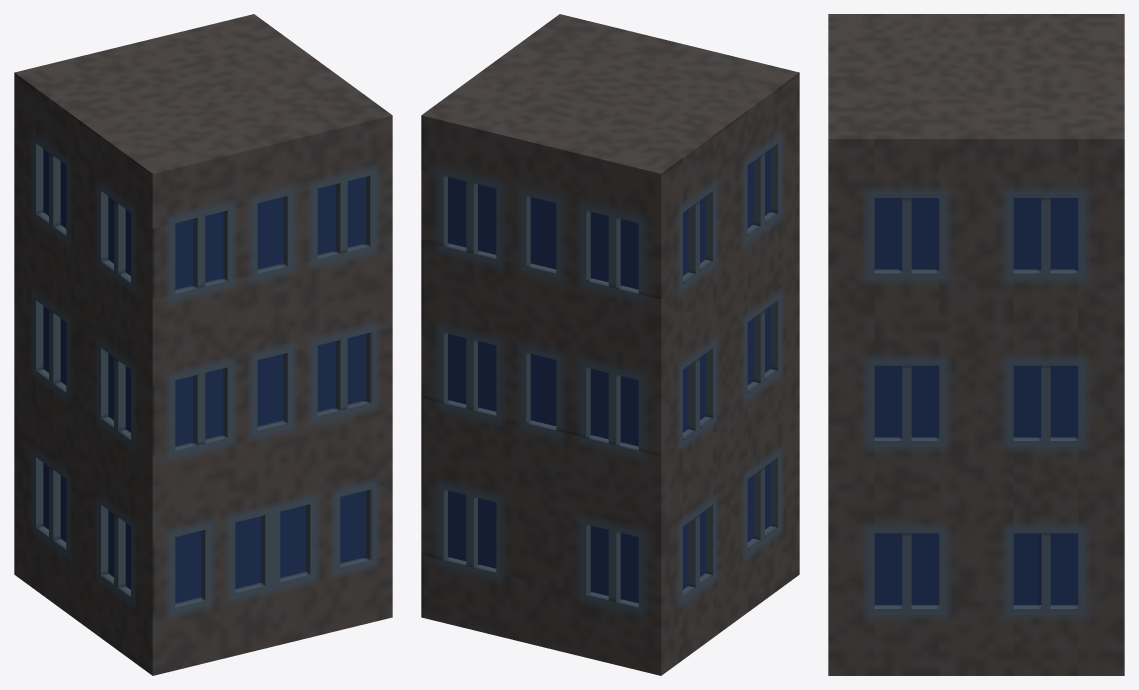
File: B_dz_uni5_3.dae
3 views of the same model, side by side, from view 1: azimuth 30°, elevation 25°; view 2: azimuth 150°, elevation 25°; view 3: azimuth 270°, elevation 25° (orthographic). The views are drawn at different scales.
Parts seen in each view (by area): view 1: Content; view 2: Content; view 3: Content.
Part boxes in pixels (bbox=[...]): Content: bbox=[14, 14, 392, 675]; Content: bbox=[421, 14, 799, 675]; Content: bbox=[828, 14, 1124, 675].
Bounding box in the file's own units: 32 × 64 × 32.
1 material, 1 textured.
